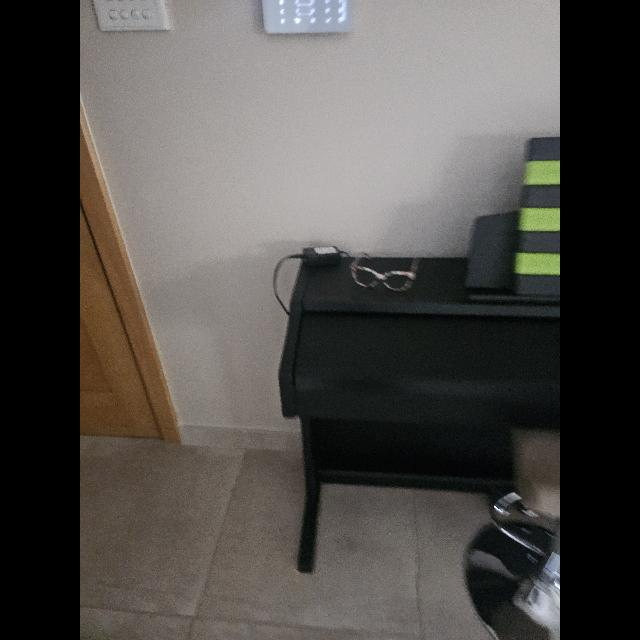glasses: (350, 252, 420, 292)
